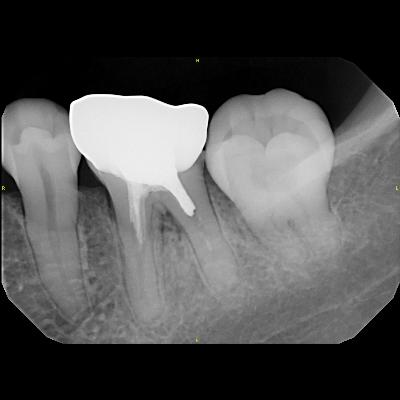tooth: (0, 96, 94, 324)
